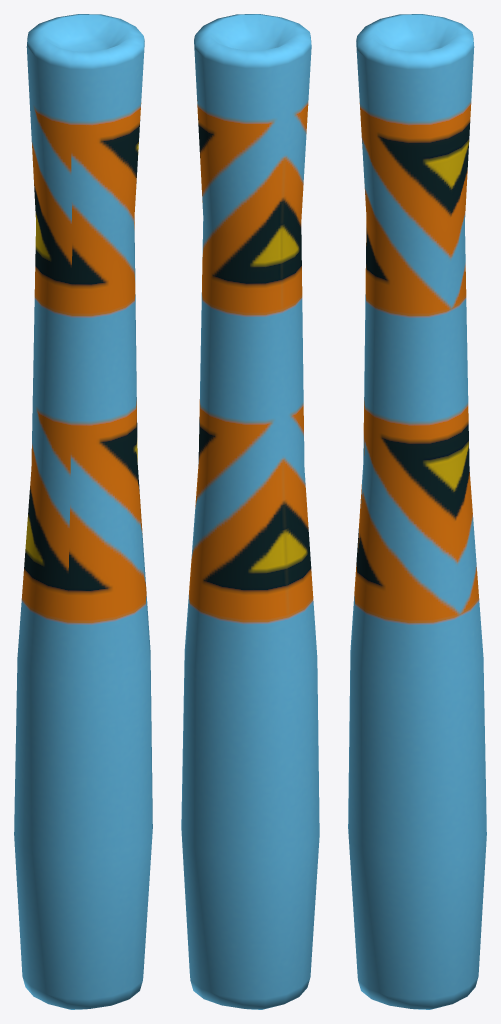
Rendered from pestle.fbx.
3 renders of one model, left to right at view 1: azimuth 30°, elevation 25°; view 2: azimuth 150°, elevation 25°; view 3: azimuth 330°, elevation 25°, orthographic.
Visible parts, largest first — view 1: grinder.001; view 2: grinder.001; view 3: grinder.001.
Part boxes in pixels (left/top/right/bottom): grinder.001: left=14, top=14, right=152, bottom=1009; grinder.001: left=181, top=14, right=319, bottom=1009; grinder.001: left=348, top=14, right=486, bottom=1009.
Bounding box in the file's own units: 66.68 × 513 × 66.68.
